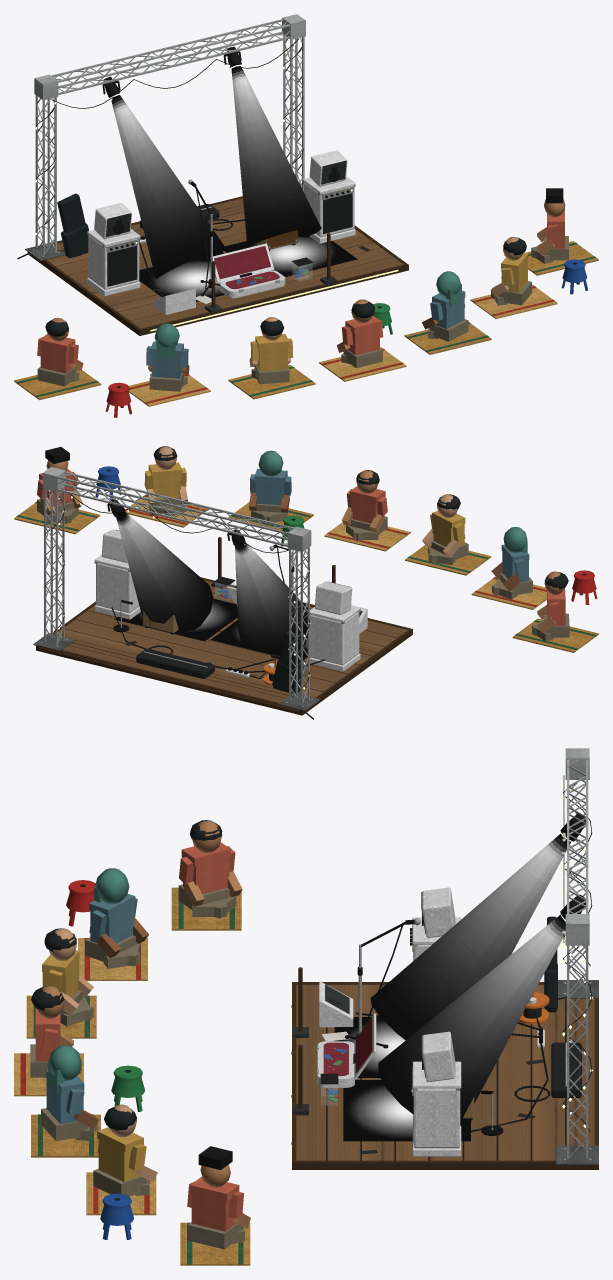
The model's file is LM_ENV_Busking.glb.
3 views of the same model, one above another, from view 1: azimuth 30°, elevation 25°; view 2: azimuth 150°, elevation 25°; view 3: azimuth 270°, elevation 25° (orthographic). The views are drawn at different scales.
Parts seen in each view (by area): view 1: busking | Busk fabric, busking | Night beam, busking | Busk metal, busking | Busk wood, busking | Busk tikar, busking | Busk plastic, busking | Busk tolex, busking | Night wash, busking | Night LED; view 2: busking | Busk wood, busking | Busk fabric, busking | Night beam, busking | Busk metal, busking | Busk plastic, busking | Busk tolex, busking | Busk tikar, busking | Night wash; view 3: busking | Busk wood, busking | Busk fabric, busking | Night beam, busking | Busk plastic, busking | Busk tikar, busking | Busk metal, busking | Busk tolex, busking | Night wash.
Part boxes in pixels (x1,y1,x2,y2): busking | Busk fabric: [37, 188, 568, 391]; busking | Night beam: [111, 66, 321, 279]; busking | Busk metal: [25, 14, 378, 324]; busking | Busk wood: [27, 196, 408, 335]; busking | Busk tikar: [14, 241, 598, 406]; busking | Busk plastic: [17, 39, 587, 417]; busking | Busk tolex: [87, 150, 355, 314]; busking | Night wash: [139, 236, 357, 301]; busking | Night LED: [135, 189, 398, 331]; busking | Busk wood: [36, 537, 412, 715]; busking | Busk fabric: [37, 447, 569, 693]; busking | Night beam: [116, 512, 307, 652]; busking | Busk metal: [33, 466, 362, 710]; busking | Busk plastic: [40, 446, 597, 719]; busking | Busk tolex: [94, 529, 367, 671]; busking | Busk tikar: [14, 494, 598, 652]; busking | Night wash: [114, 598, 307, 659]; busking | Busk wood: [292, 967, 598, 1169]; busking | Busk fabric: [30, 842, 581, 1249]; busking | Night beam: [370, 833, 570, 1121]; busking | Busk plastic: [31, 775, 592, 1239]; busking | Busk tikar: [14, 887, 250, 1265]; busking | Busk metal: [291, 748, 598, 1164]; busking | Busk tolex: [317, 887, 461, 1156]; busking | Night wash: [334, 1017, 470, 1141].
Size of the model in its own units: 10.45 by 3.25 by 6.86.
12 materials, 8 textured.
